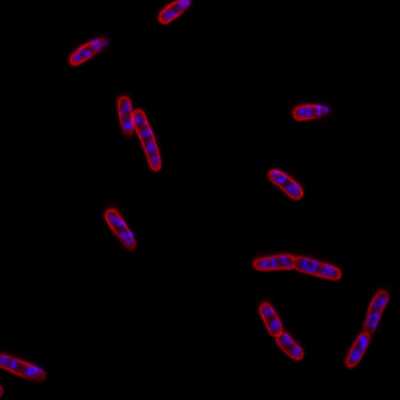Control: (343, 290, 392, 370), (259, 301, 305, 362), (252, 251, 342, 282), (132, 109, 163, 172), (104, 208, 137, 251), (268, 167, 304, 202)
Oblique: (1, 353, 47, 384), (68, 36, 111, 66), (291, 103, 332, 122), (116, 96, 134, 137)
